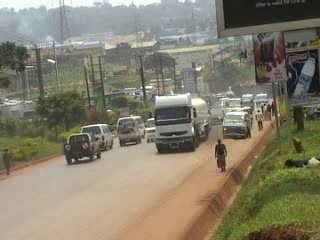Car: (207, 106, 226, 124)
